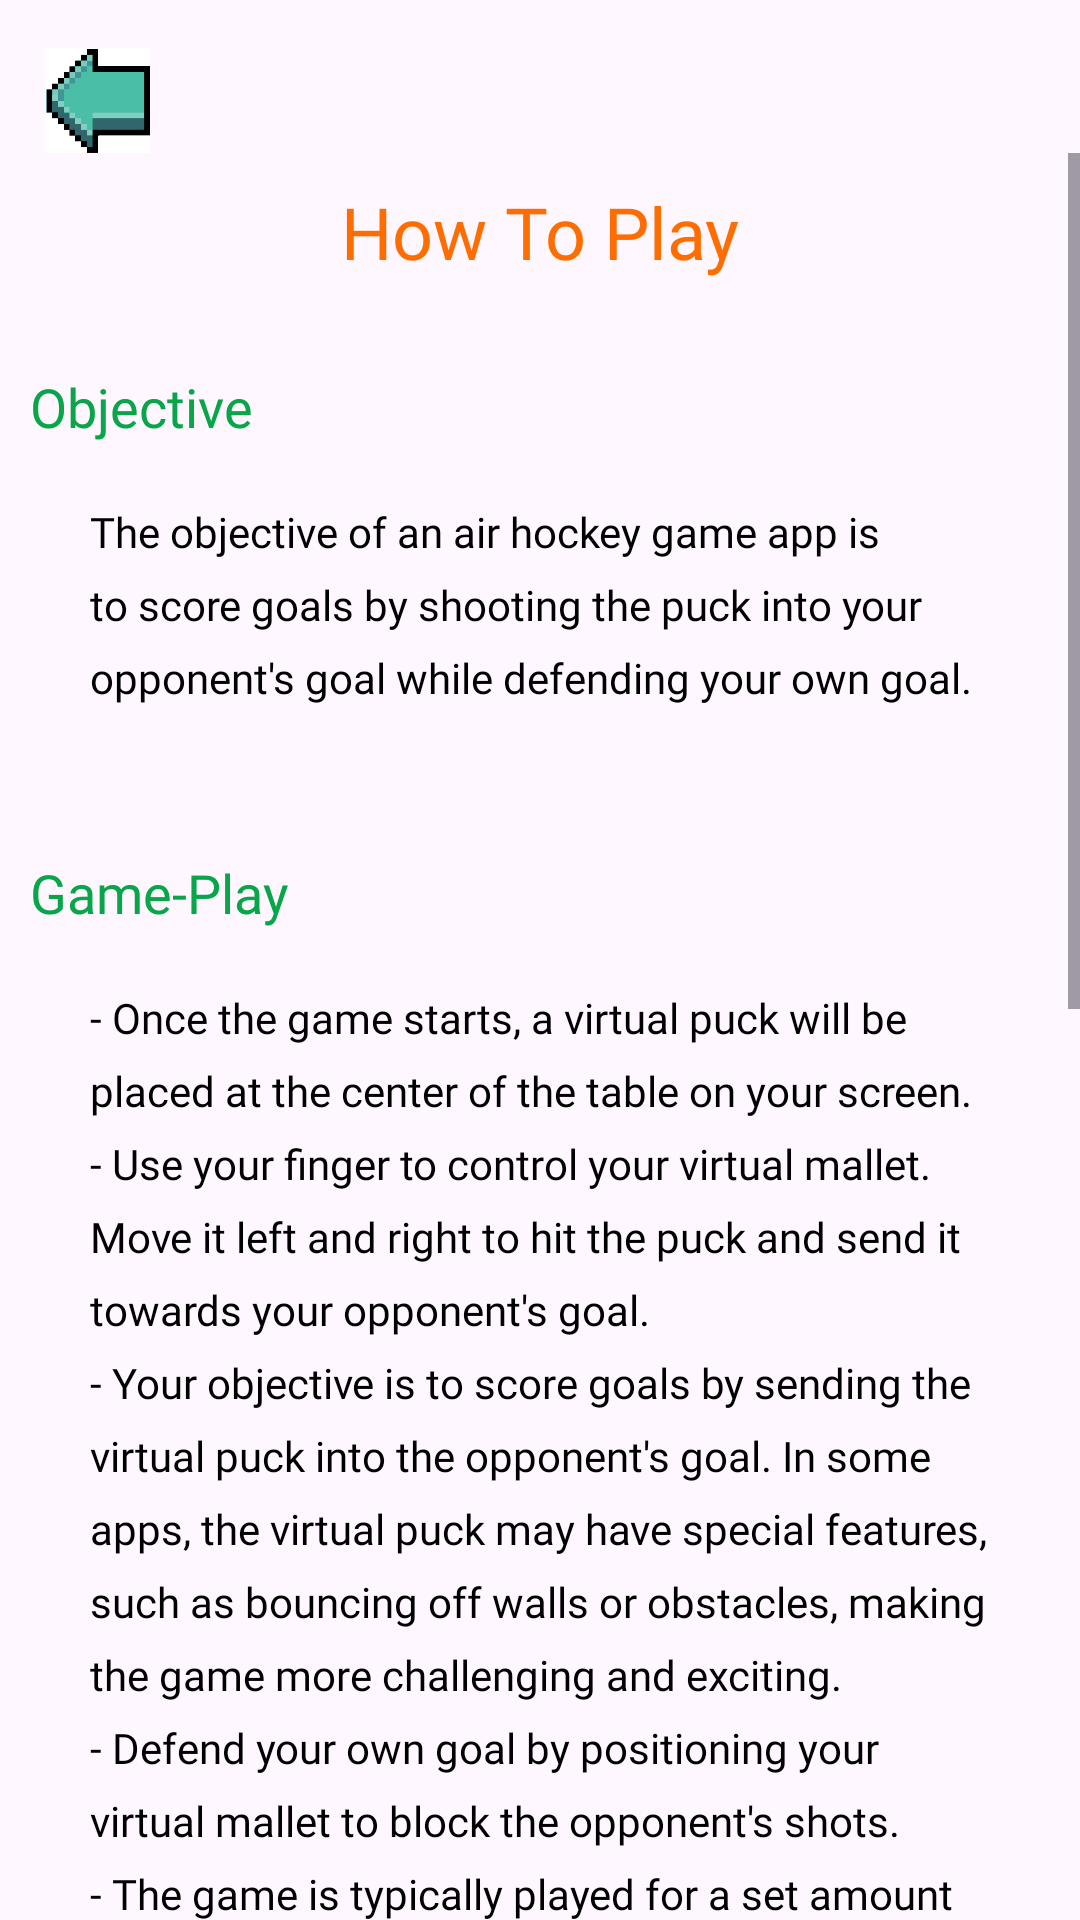

Where to tap for icons on this 1080w x 1920h app screen, as (x=x, y=y):
bckarrow: (x=98, y=101)
